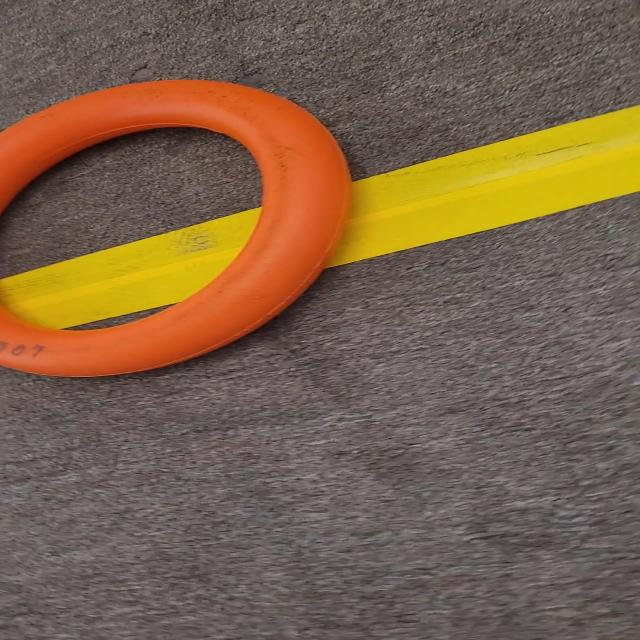note: (0, 72, 365, 388)
